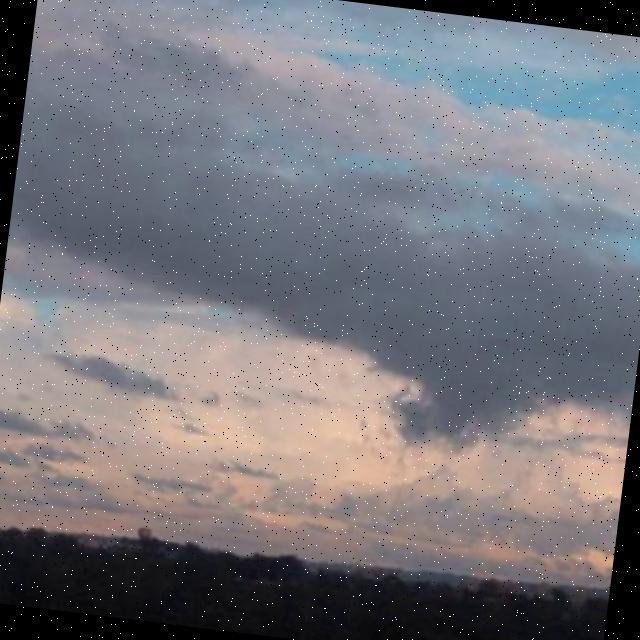Sc: (1, 22, 640, 504)
